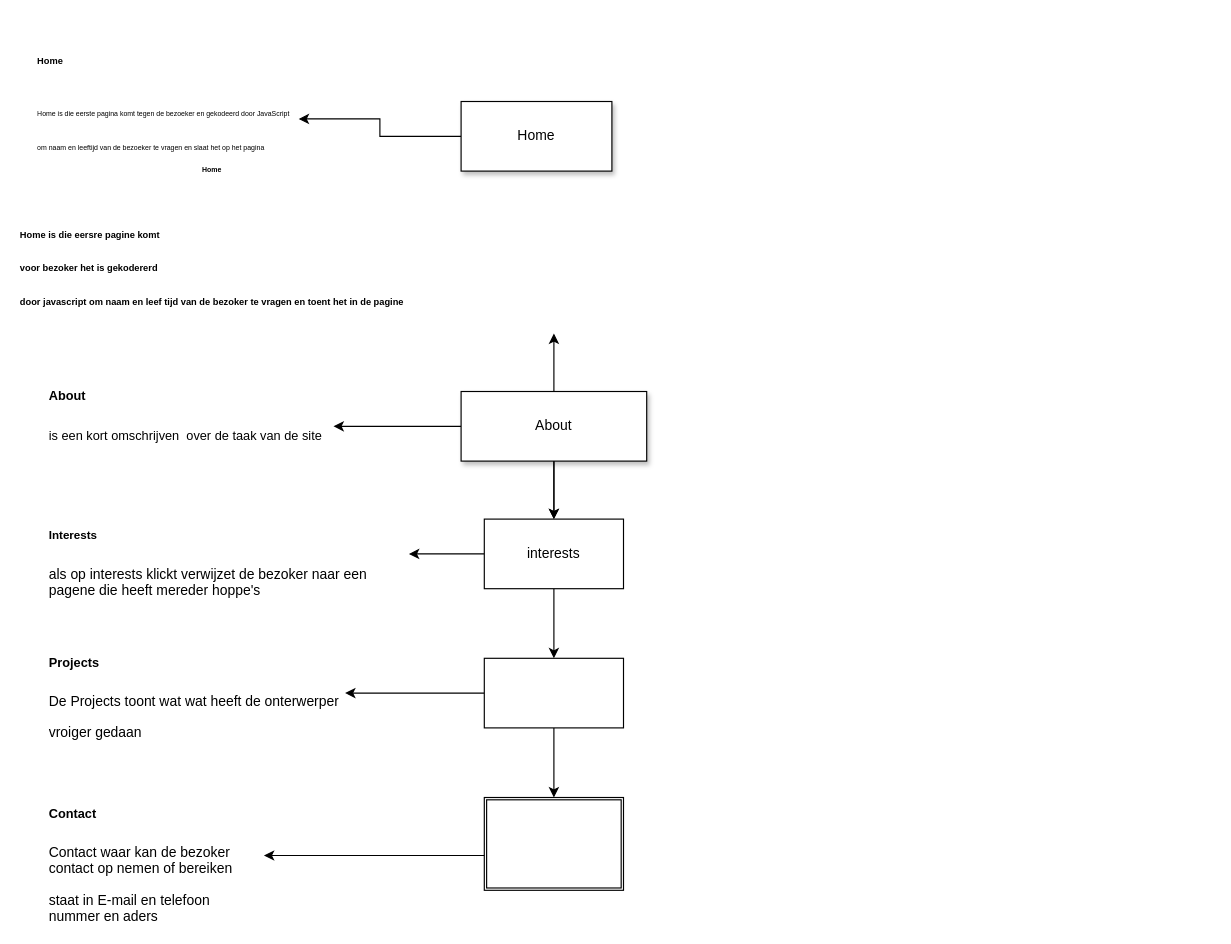
Some shapes in this 1231 by 944 pixel diagram are drawn without their labels. Each missing label, with the centre of its shape:
"contact" belongs at (553,843).
"Porjects" belongs at (553,692).
